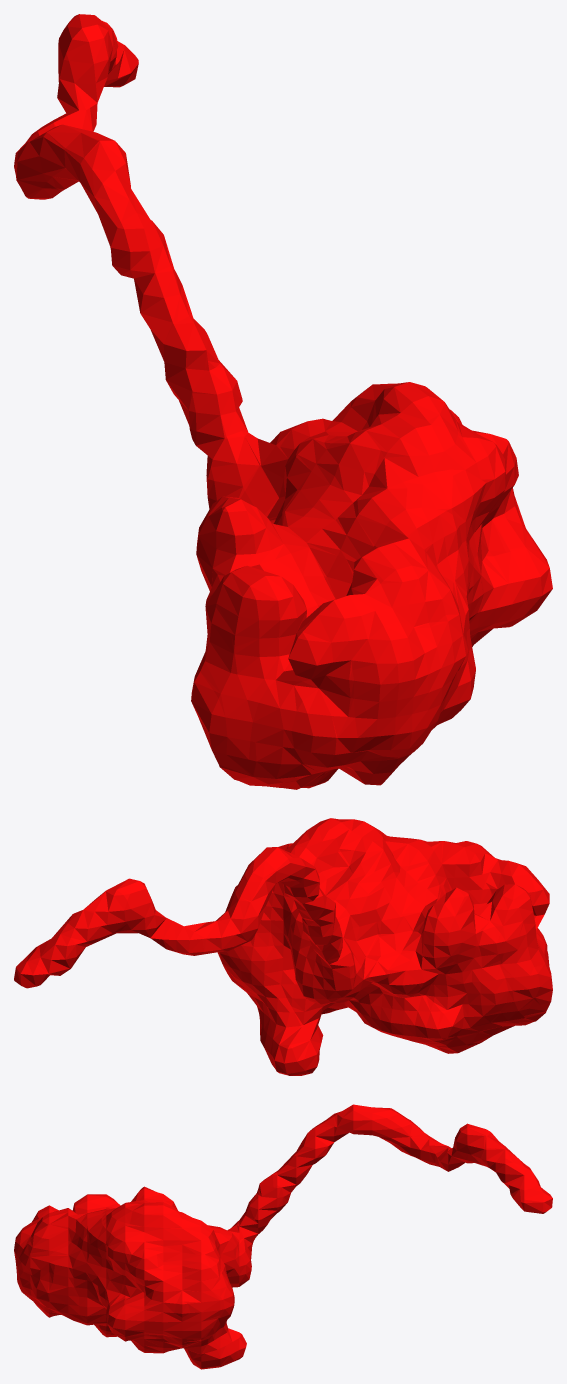
File: ydcP_coarse.dae
The picture shows the model from 3 angles, top to bottom: view 1: azimuth 30°, elevation 25°; view 2: azimuth 150°, elevation 25°; view 3: azimuth 270°, elevation 25°; orthographic projection. The views are drawn at different scales.
Parts seen in each view (by area): view 1: ydcP; view 2: ydcP; view 3: ydcP.
Part boxes in pixels (bbox=[...]): ydcP: bbox=[14, 14, 552, 789]; ydcP: bbox=[14, 818, 552, 1075]; ydcP: bbox=[14, 1104, 552, 1369].
Size of the model in its own units: 76.32 by 88.84 by 179.
